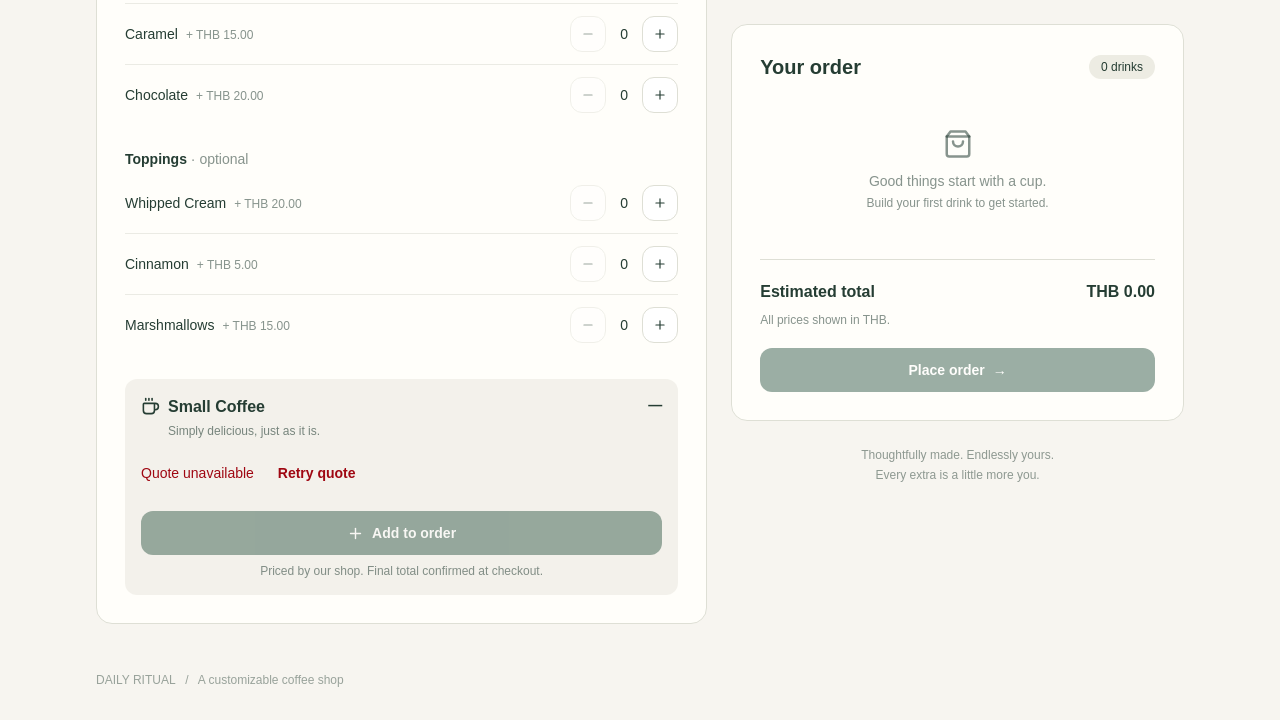
Test: Coffee ordering › ignores a retry's late success after the drink changes
(page scrolled)
expect the message "Quote unavailable Retry quote" is shown: met, box [141, 451, 376, 495]
Click the button "Retry quote".
click(317, 473)  # box [258, 451, 376, 495]
(page scrolled)
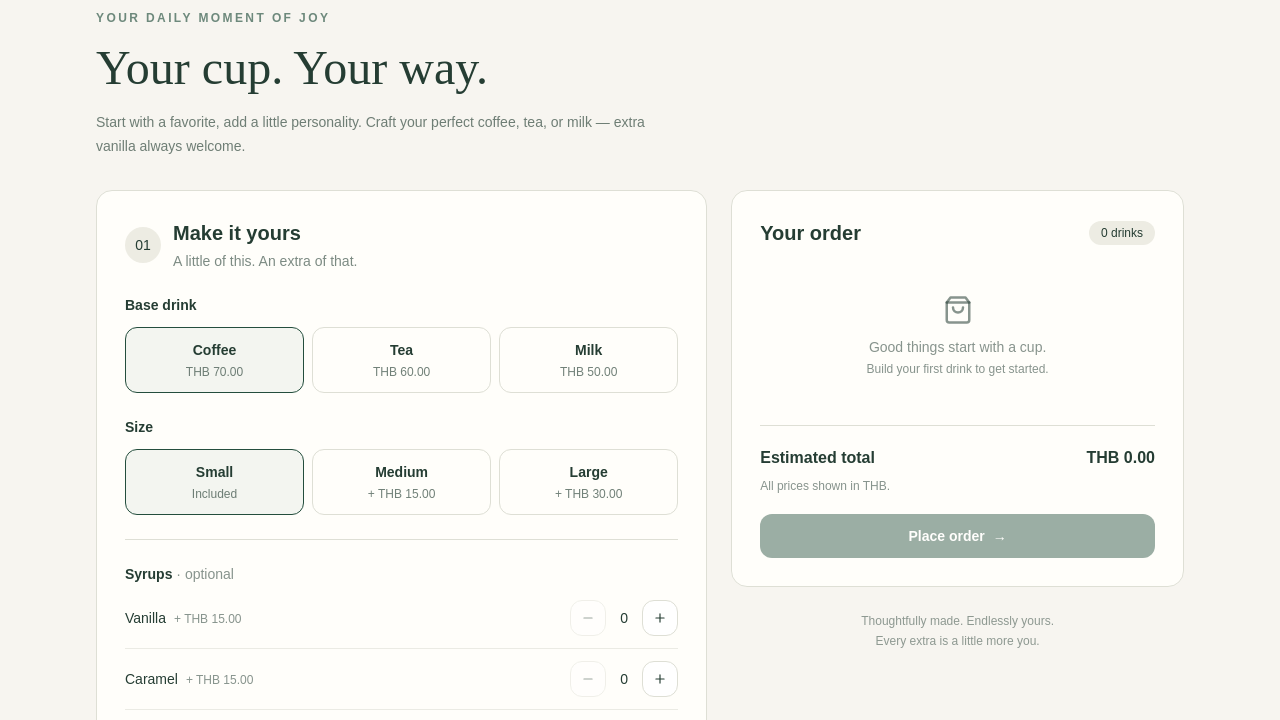
Click the radio button labelled "Tea THB 60.00".
click(402, 360)  # box [312, 327, 491, 393]
(page scrolled)
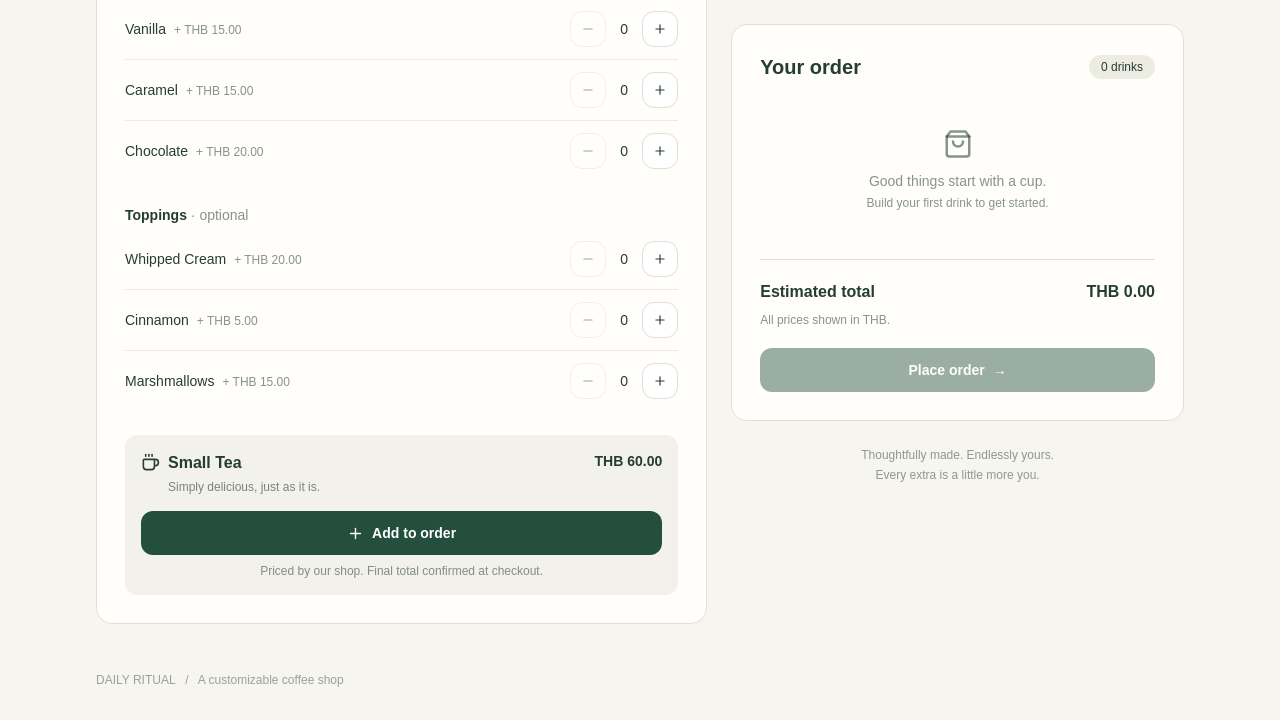
expect the message "Quote unavailable Retry quote" is not shown: met
expect the text "THB 60.00" is shown: met, box [594, 451, 662, 471]
expect the button "Add to order" is enabled: met, box [141, 511, 662, 555]
